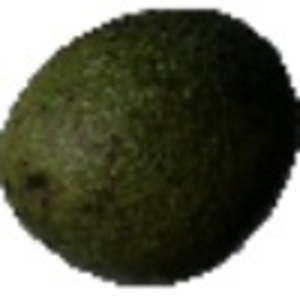abacate: (3, 5, 297, 283)
